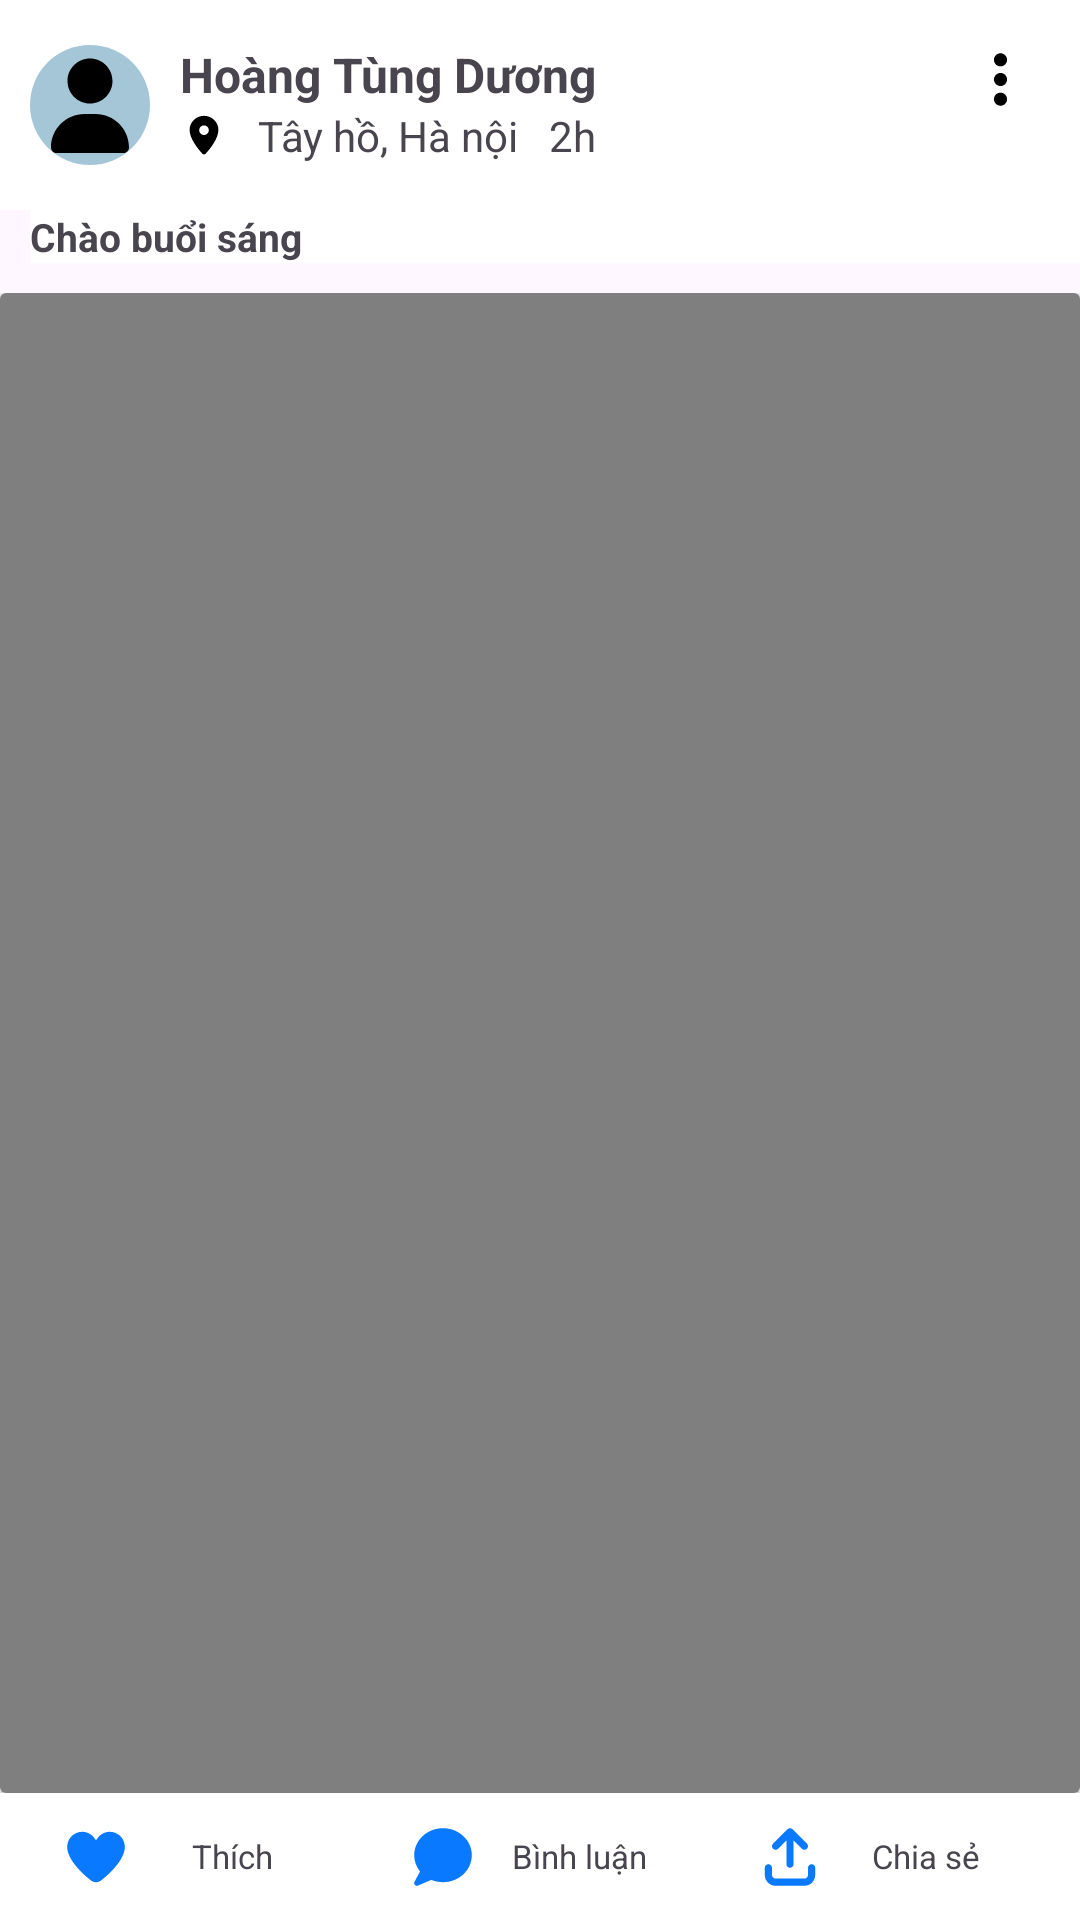

Point at icon controls on the screen. Image size 1080 x 1920, points as (x=x, y=y).
bars more: (x=1000, y=79)
map: (x=204, y=135)
user: (x=90, y=105)
